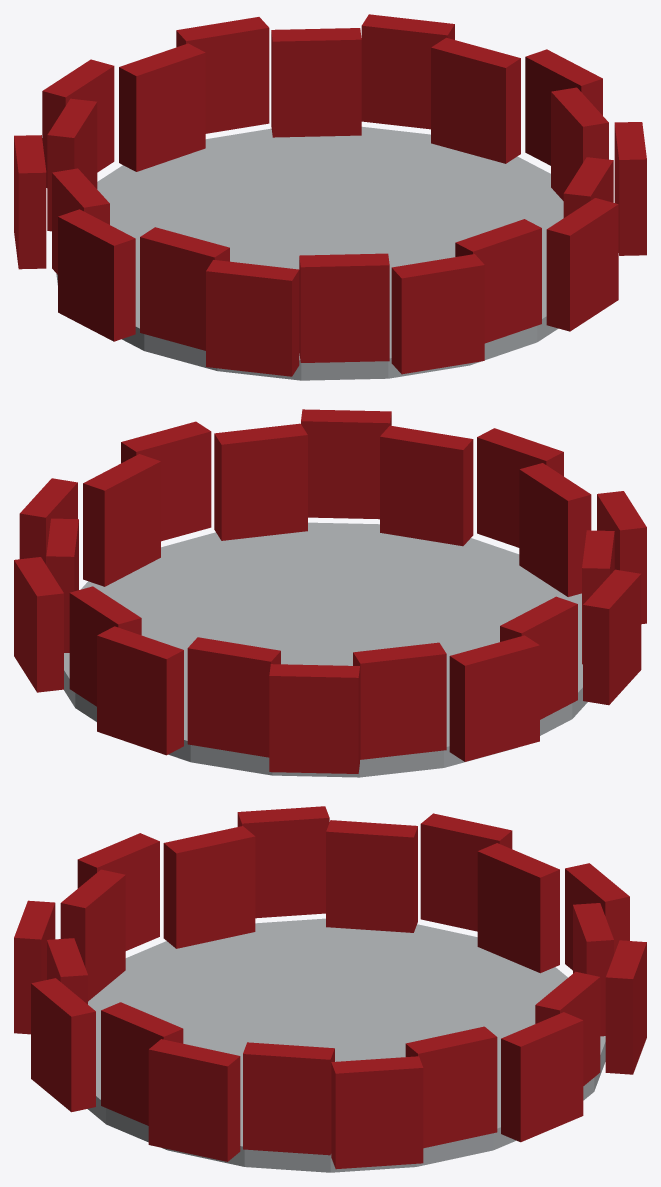
The model's file is curios-cap.glb.
3 views of the same model, one above another, from view 1: azimuth 30°, elevation 25°; view 2: azimuth 150°, elevation 25°; view 3: azimuth 270°, elevation 25° (orthographic).
Size of the model in its own units: 2.28 by 0.46 by 2.28.
